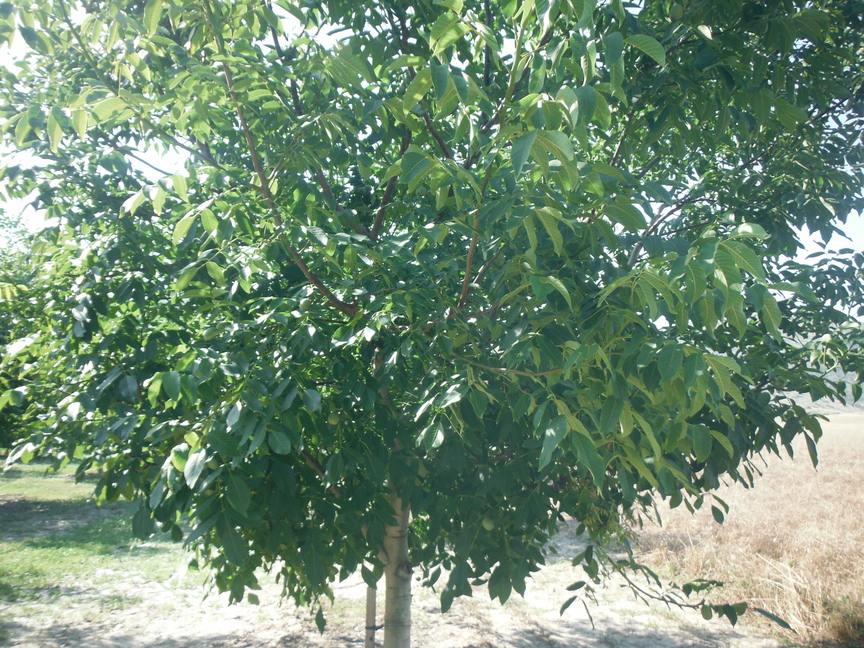walnut: (666, 2, 687, 23), (699, 598, 715, 623), (200, 325, 218, 343), (756, 390, 772, 409), (480, 514, 496, 532), (774, 373, 790, 391), (298, 295, 313, 313), (327, 408, 341, 427), (494, 248, 506, 268), (206, 457, 220, 471), (214, 319, 230, 331), (414, 185, 427, 199), (427, 446, 439, 459), (395, 85, 407, 98), (401, 74, 411, 88), (356, 185, 367, 196), (364, 183, 374, 193)
